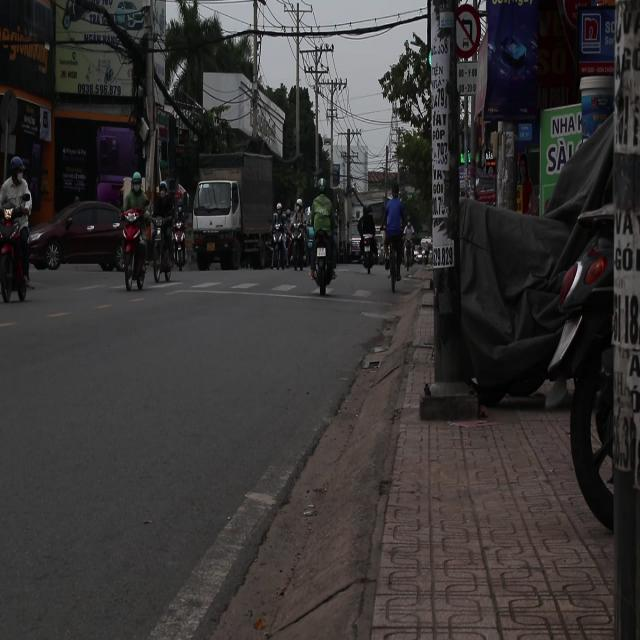car: (29, 199, 126, 270)
motorbike: (0, 203, 28, 304), (119, 206, 148, 302), (307, 228, 339, 296), (361, 234, 383, 271), (348, 233, 362, 260)
truck: (192, 152, 276, 273)
